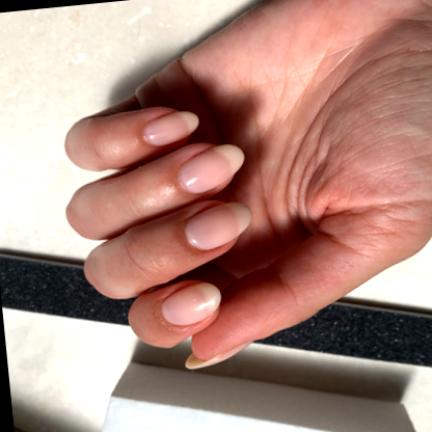Nail: (178, 144, 245, 194), (186, 203, 252, 251), (162, 283, 222, 326), (143, 112, 199, 146)
